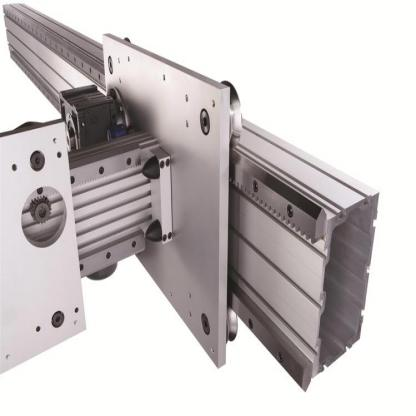FOD: (31, 195, 52, 226)
